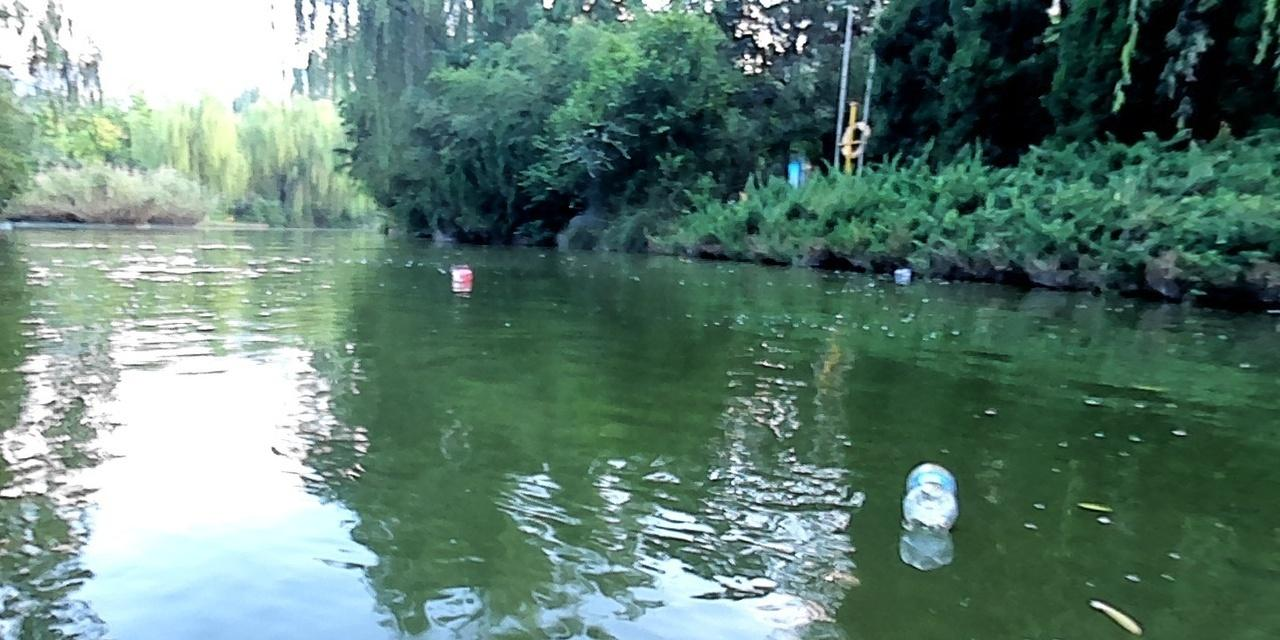bottle: (902, 460, 956, 532), (452, 266, 470, 282), (894, 267, 909, 279)
